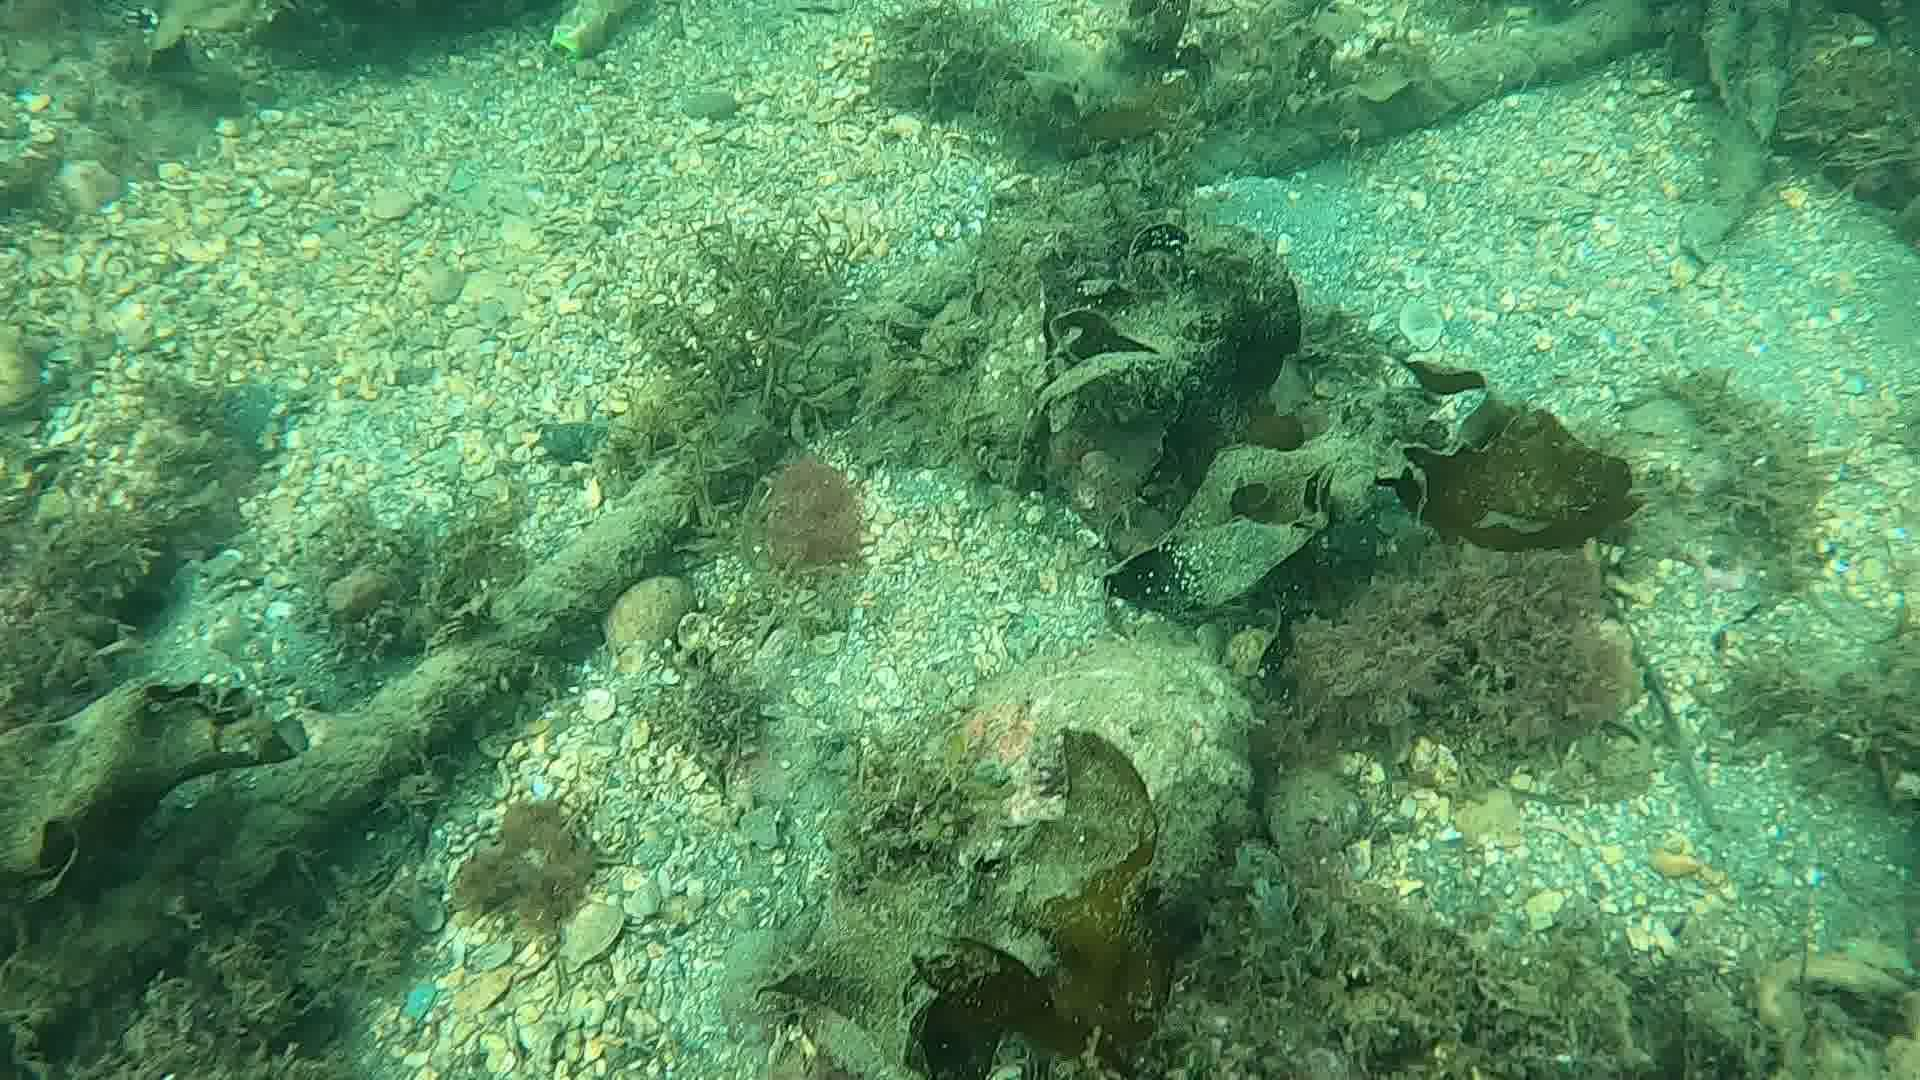rope: (0, 0, 1636, 1029)
